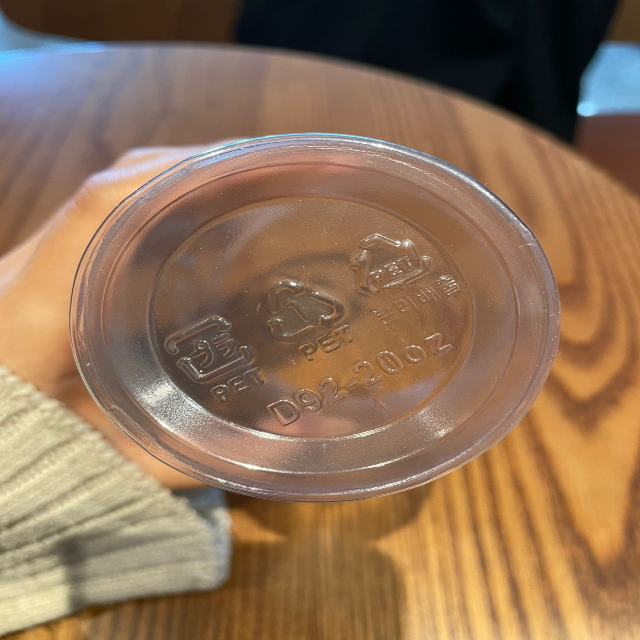pet: (352, 229, 463, 327), (158, 307, 265, 399), (262, 277, 354, 363)
